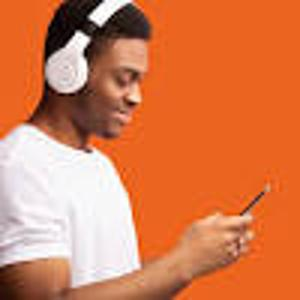Headphones: (41, 1, 142, 97)
